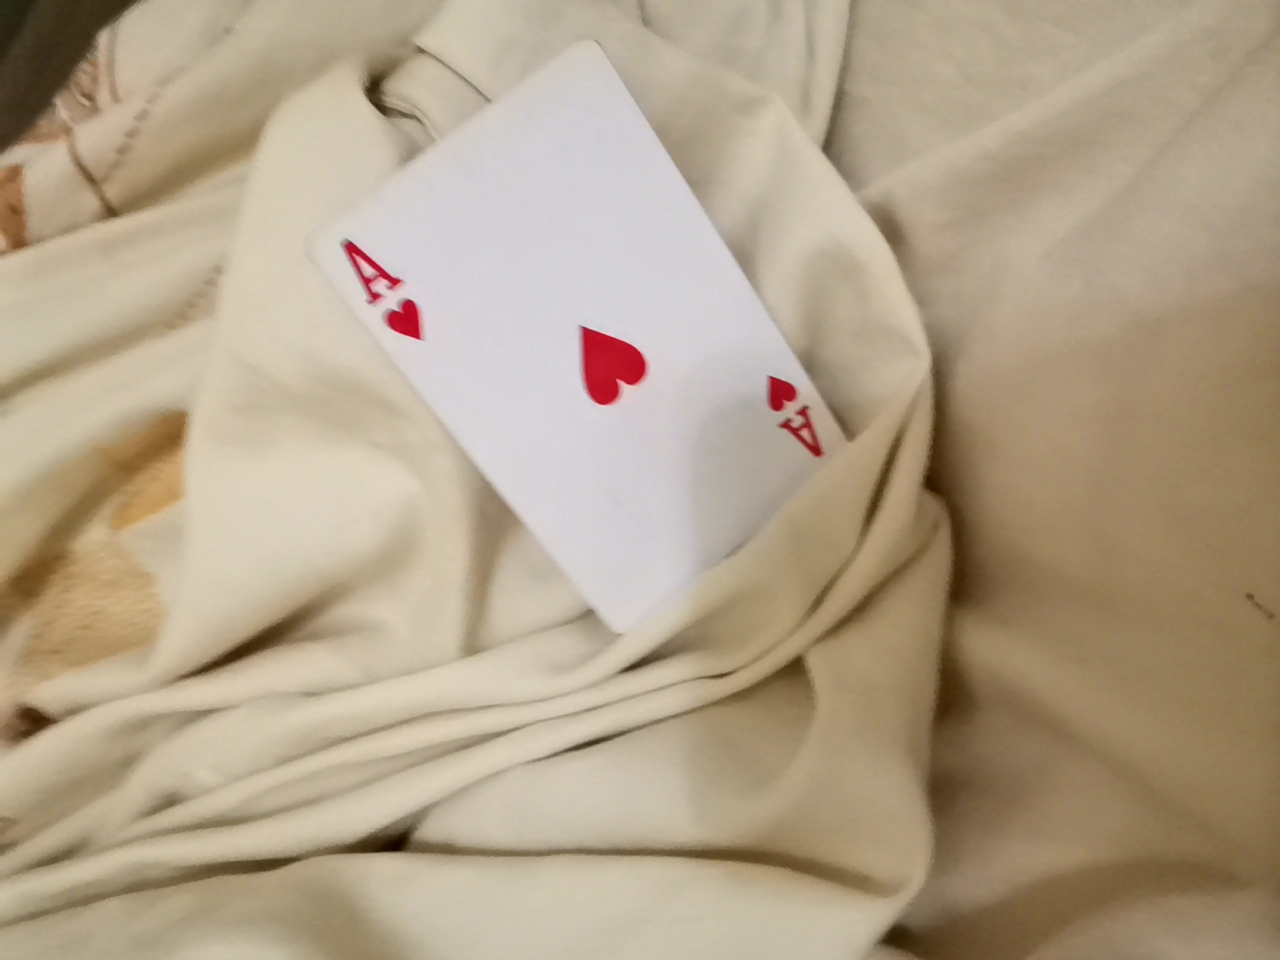hx a: (328, 72, 866, 653)
